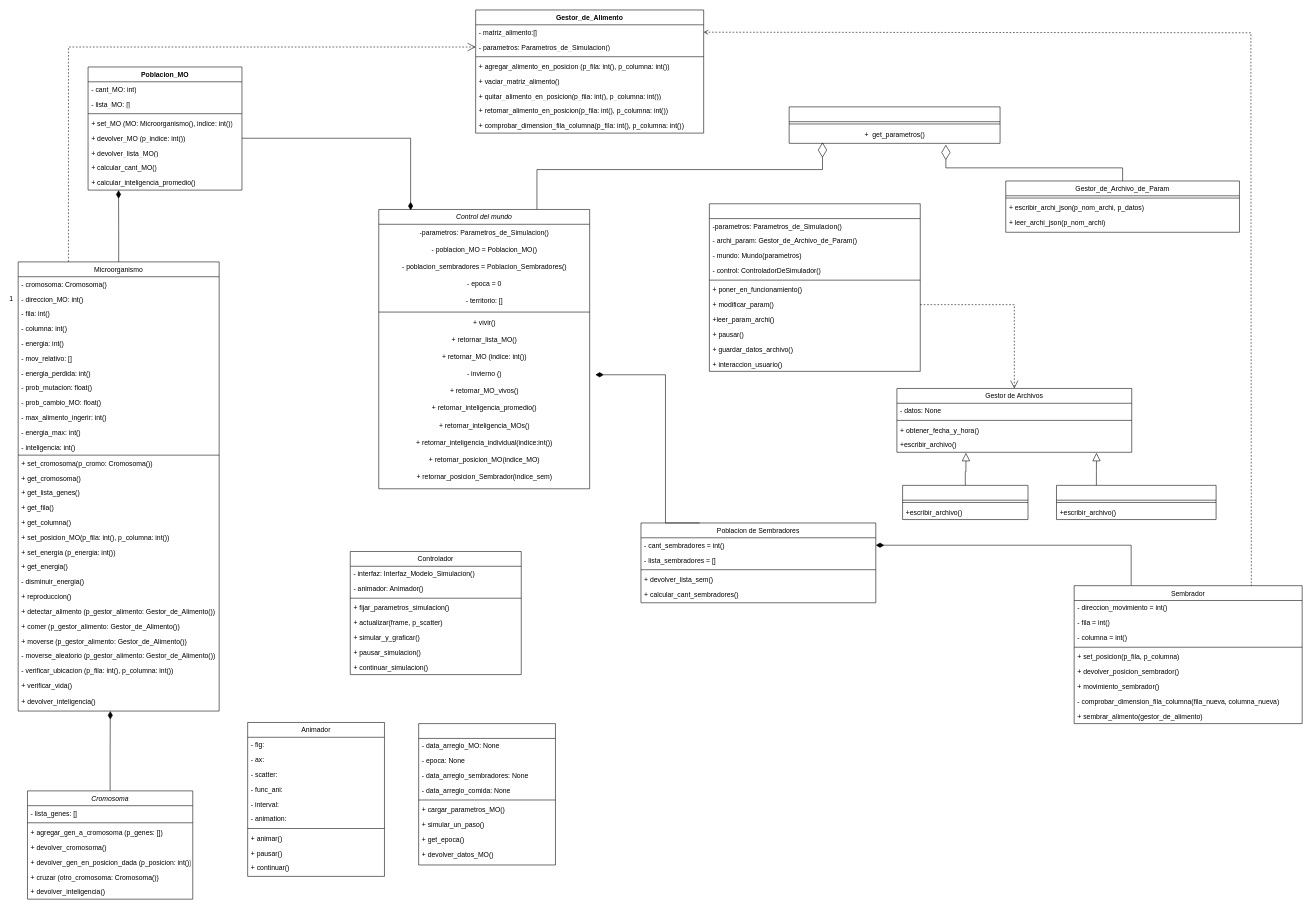
Some shapes in this 1313 by 911 pixel diagram are drawn without their labels. Here are the shapes that lost their labels. From the top down, the box of each, then its label:
(789, 106, 1000, 143): Parametros de Simulacion
(709, 203, 920, 371): InterfazUsuario
(902, 485, 1028, 520): Archivo_Html
(1056, 485, 1216, 520): Archivo_PDF
(418, 723, 555, 865): InterfazModeloGraficacion
